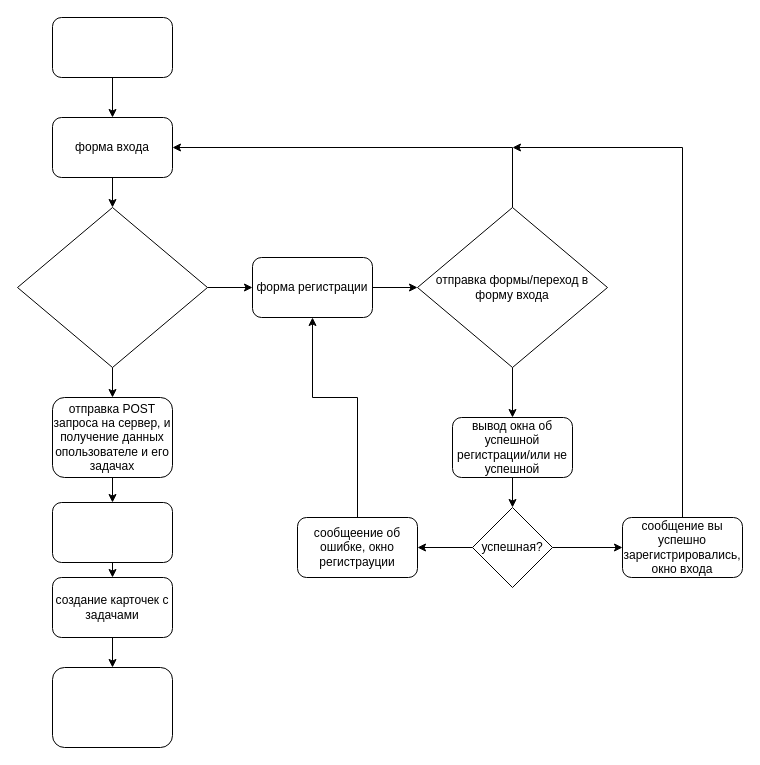
Some shapes in this 760 by 765 pixel diagram are drawn without their labels. Each missing label, with the centre of its shape:
загрузка доски с задачами, вырисовка имени пользователя на экране: the point at 112,707
кнопка открытия формы входа: the point at 112,47
отправка формы/переход в форму регистрации: the point at 112,287
создание доски: the point at 112,532
